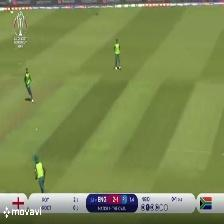ball: (33, 122, 41, 133)
